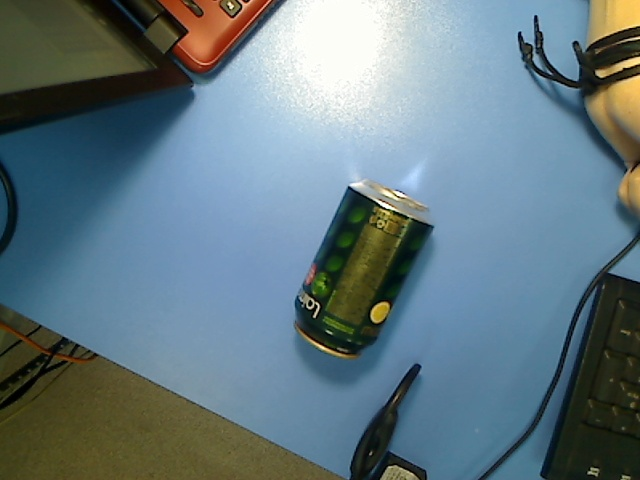can: (291, 180, 437, 361)
